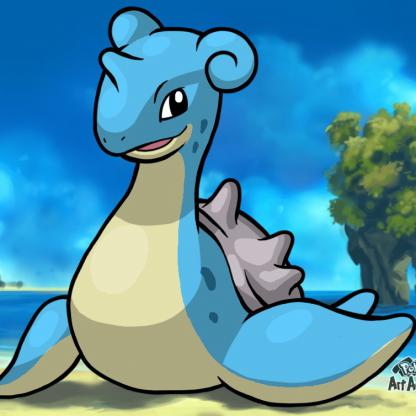Lapras: (46, 1, 416, 412)
